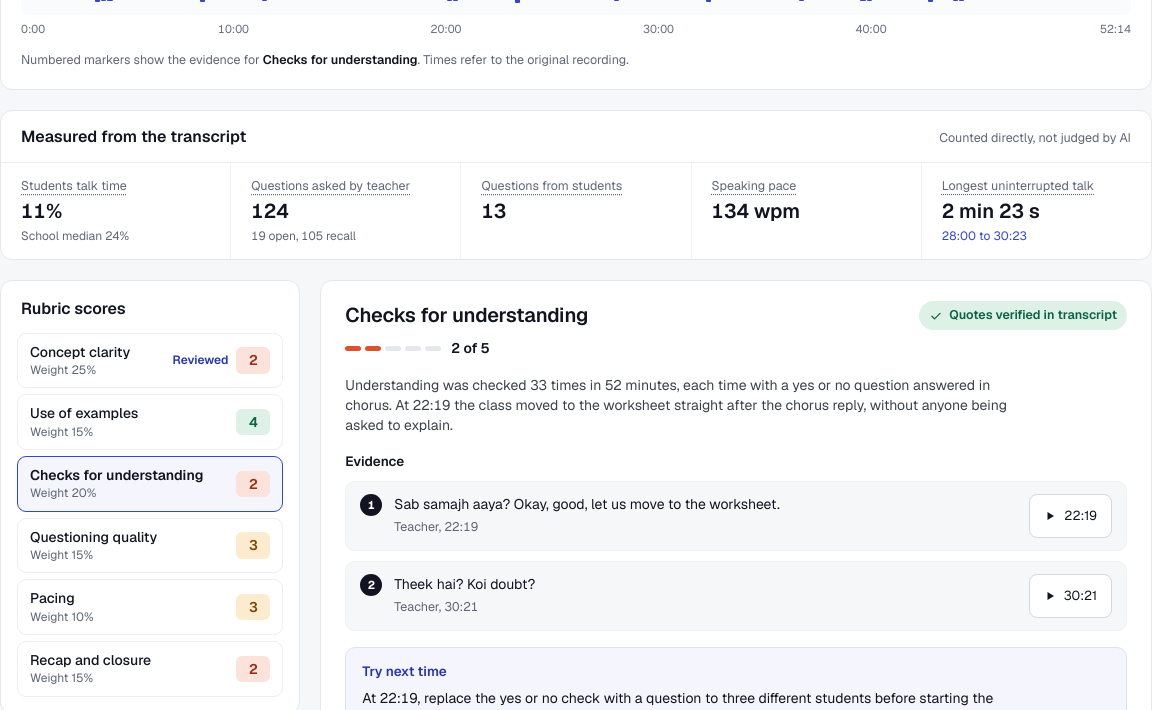
Test: RecordingReport disputes and reviewed scores (P6.7) › names the reviewer's role with the right article
The width and height of the screenshot is (1152, 710).
(page scrolled)
Click the button "Concept clarity Weight 25% Reviewed 2": (80,352) x1=17 y1=333 x2=283 y2=388
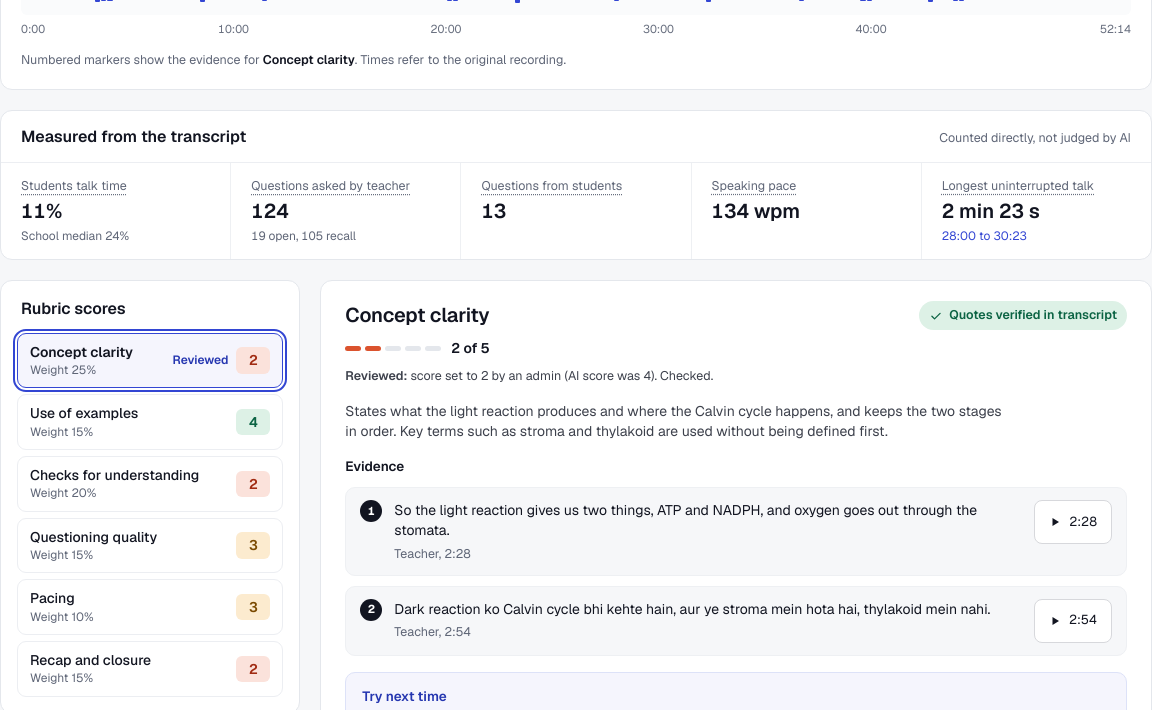
Check: the element with test id "override-note" shows "score set to 2 by an admin", box x1=345 y1=367 x2=713 y2=385
